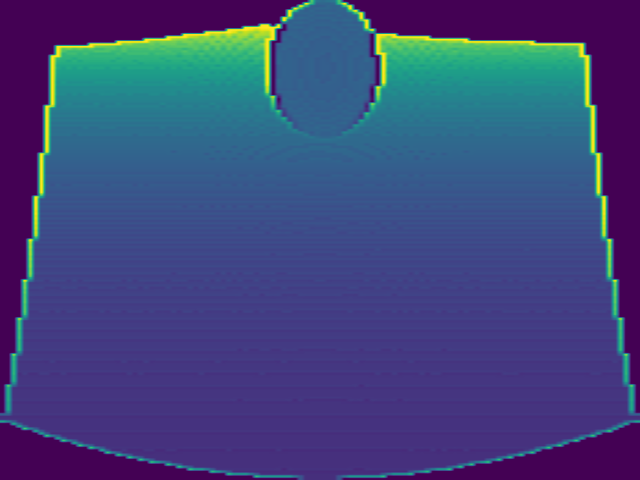sphere: (265, 1, 385, 138)
